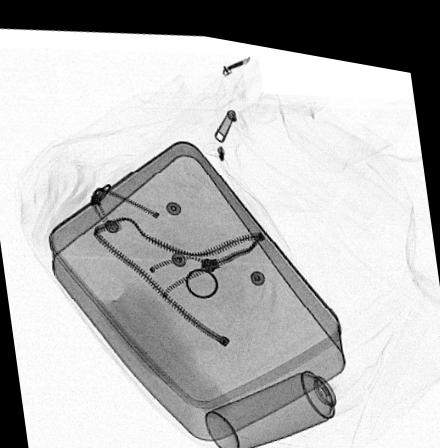Sprayer: (204, 343, 365, 447)
